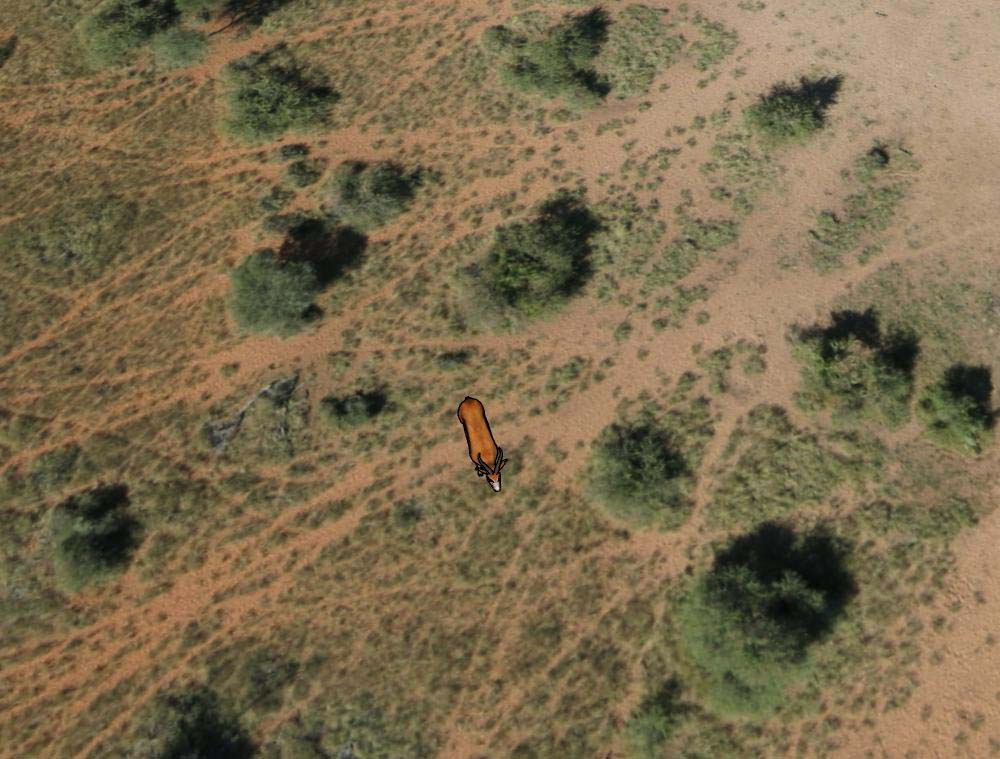springbok: (456, 391, 511, 495)
